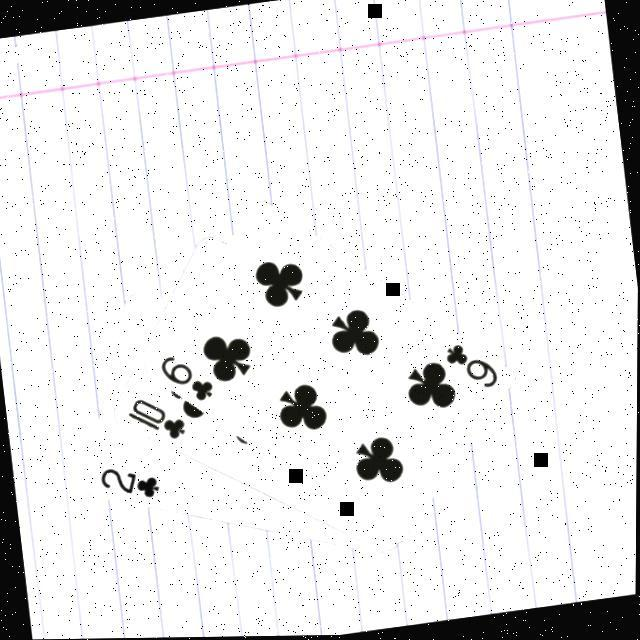10C: (123, 388, 191, 447)
2C: (96, 457, 165, 506)
6C: (157, 345, 219, 407), (442, 335, 503, 396)
